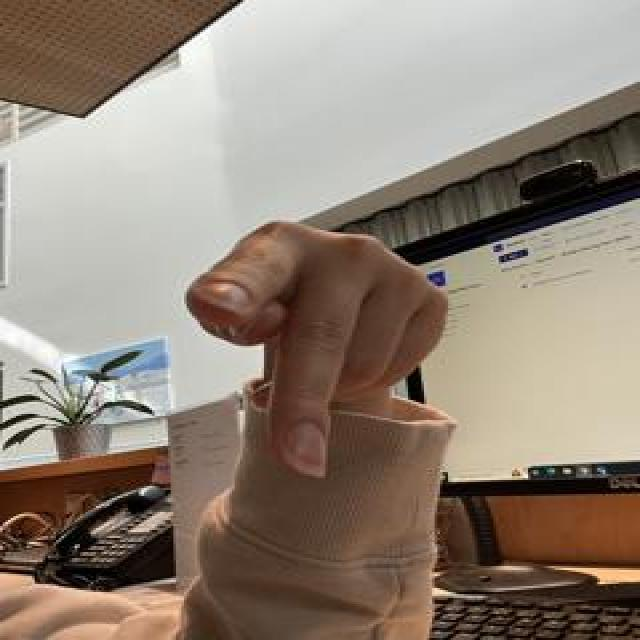P: (180, 217, 457, 481)
